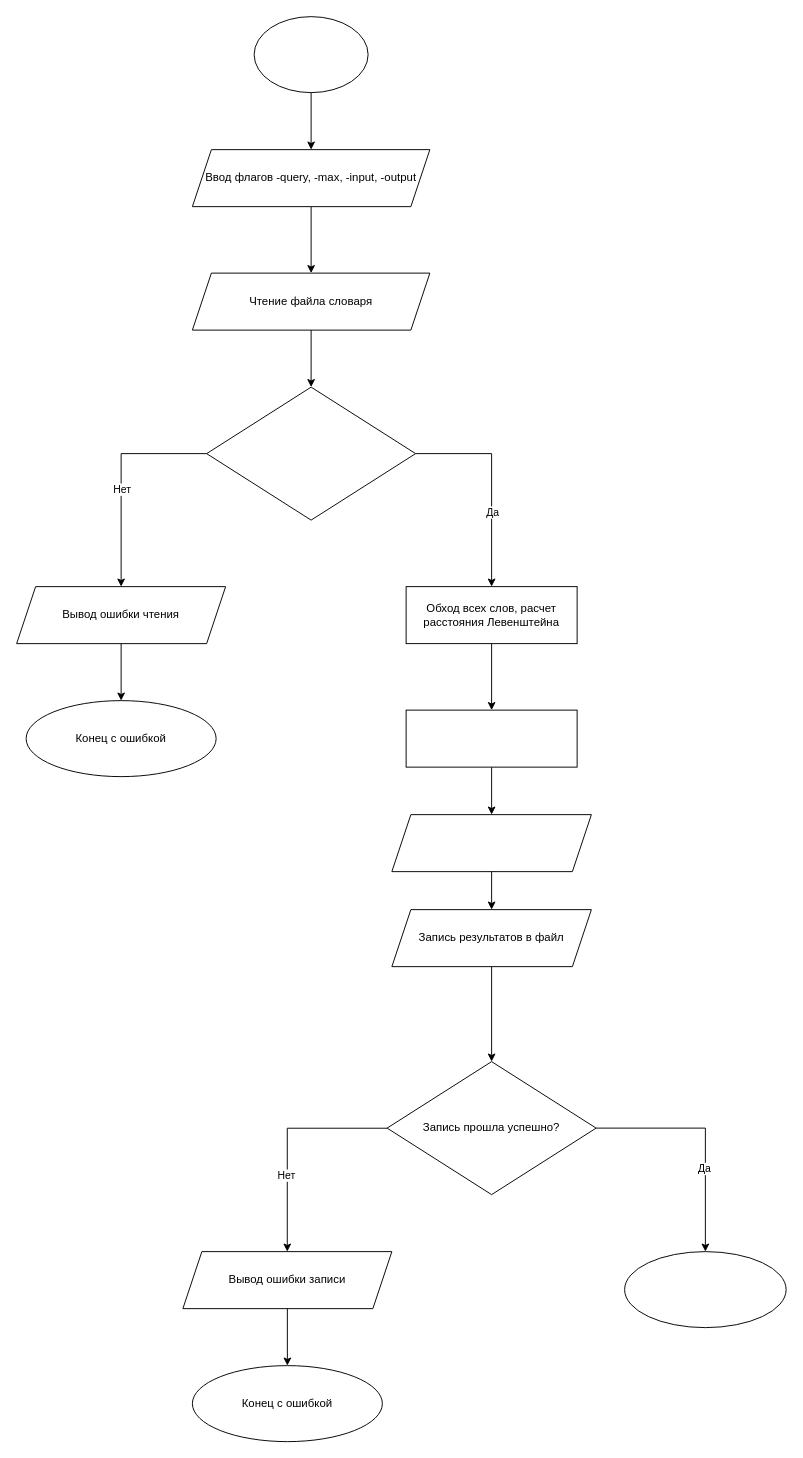
Image size: 803x1458. Some labels were removed from this diagram. The box of each missing label's shape, as (x1, y1, x2, y2) in pixels:
Вывод результатов на экран: (391, 814, 591, 872)
Конец: (624, 1251, 786, 1328)
начало: (253, 16, 368, 93)
Файл прочитан без ошибок?: (206, 386, 416, 520)
Фильтрация по порогу и сортировка: (405, 709, 577, 767)
